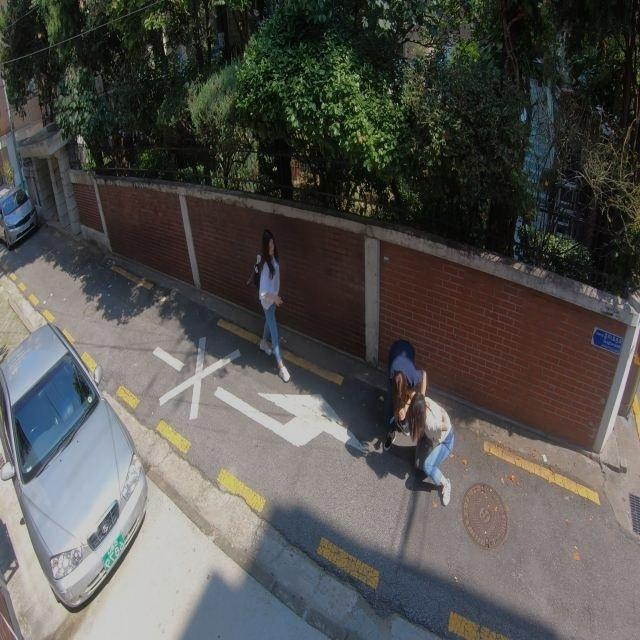fight: (380, 341, 459, 504)
non-fight: (254, 232, 292, 384)
